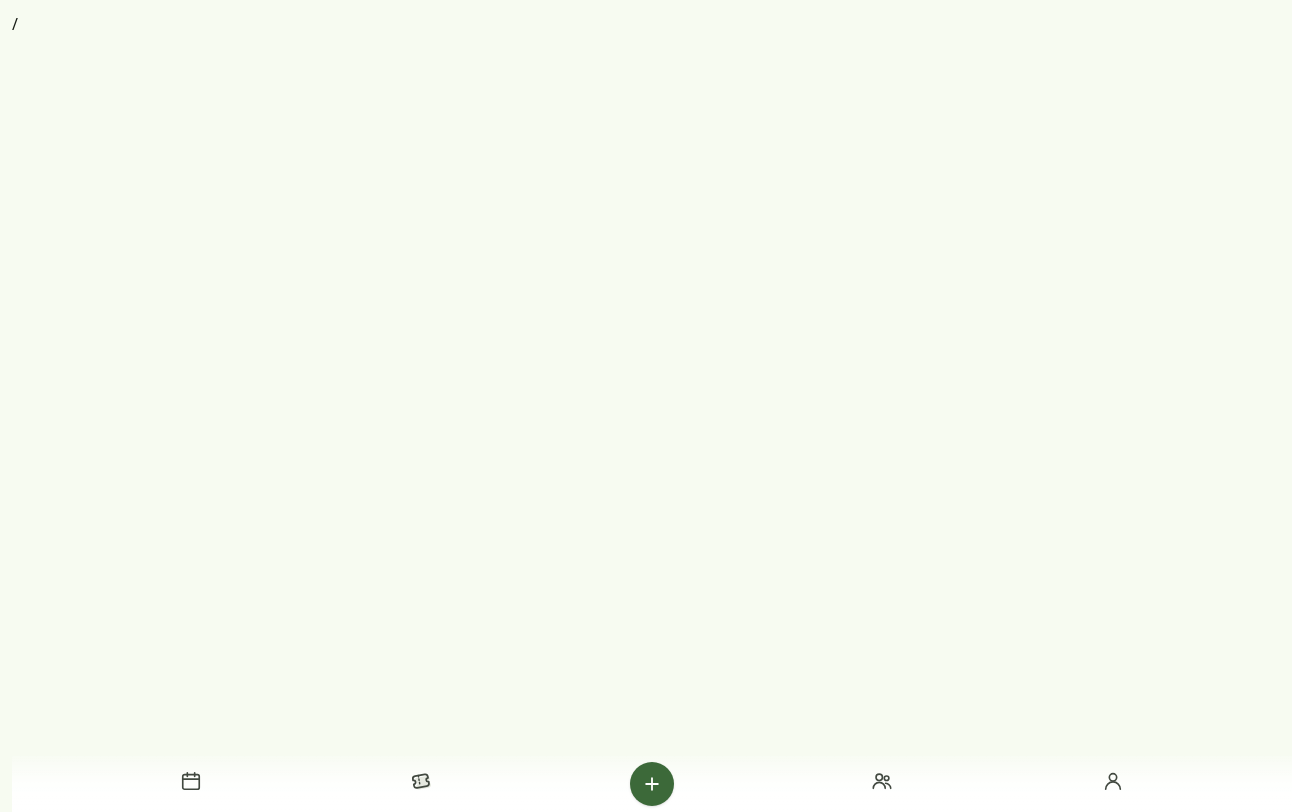
BottomNav › add-event button navigates to /events/add
Click the button named "add event": click(652, 784) top-left (630, 762), bottom-right (674, 806)
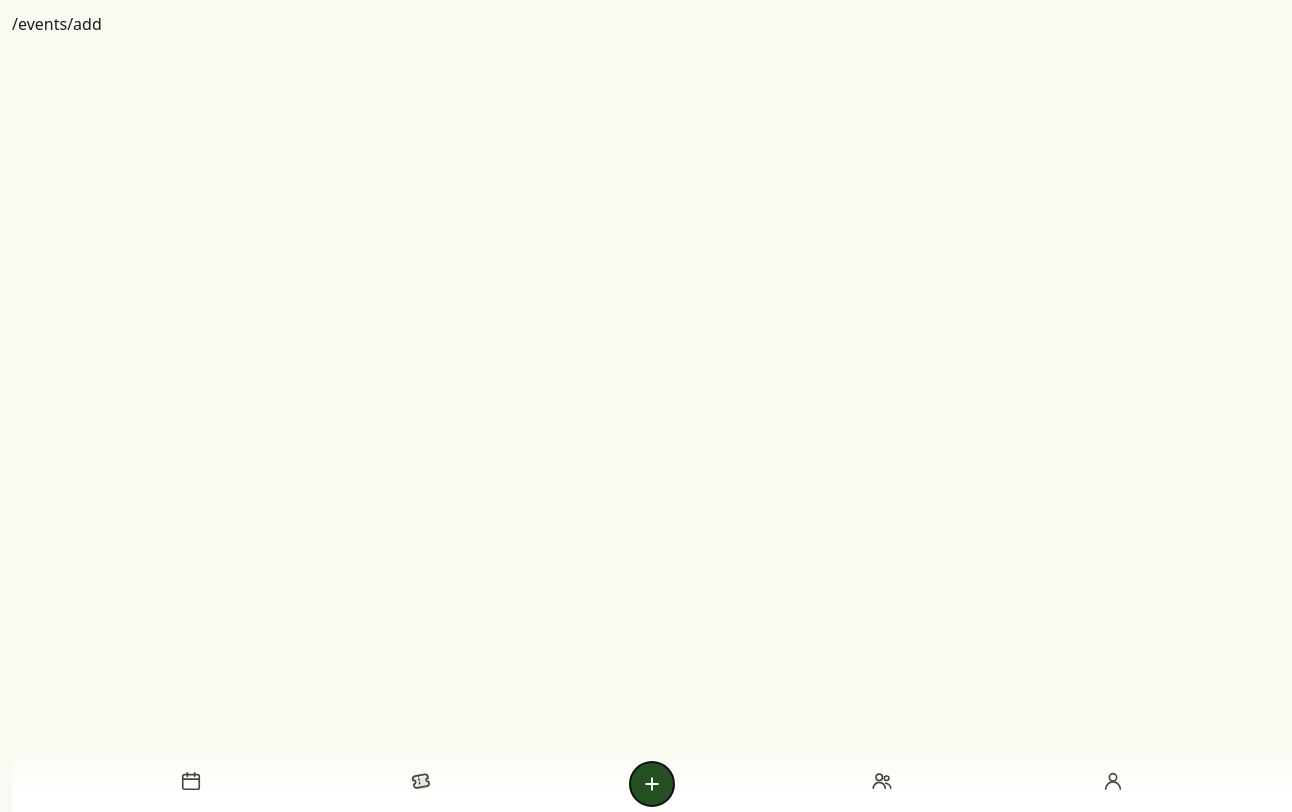
Check: the text with test id "pathname" reads "/events/add", box top-left (12, 13), bottom-right (102, 35)
